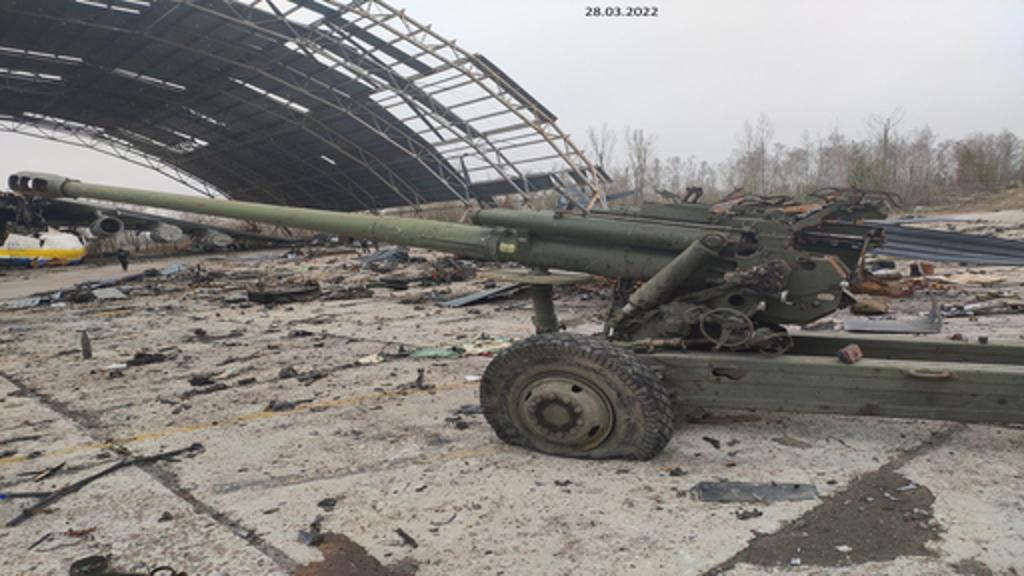ART: (8, 164, 1020, 468)
